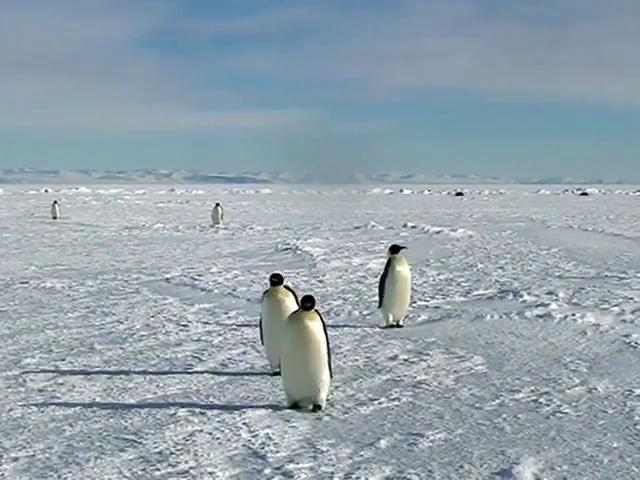animal: (378, 244, 410, 326)
